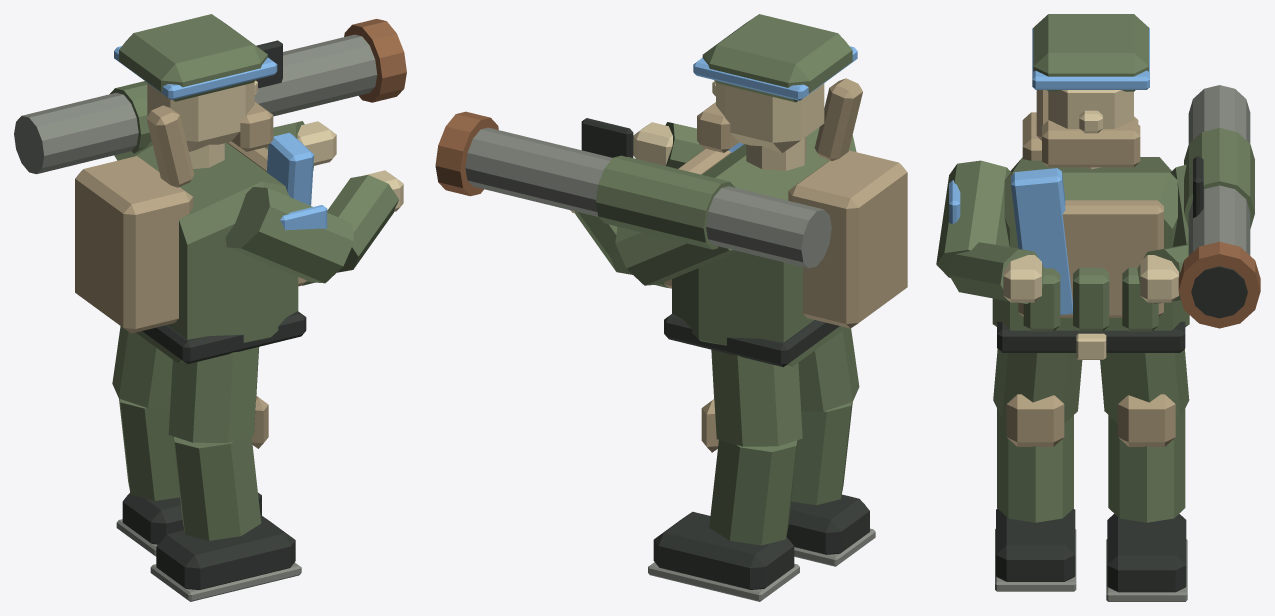
Rendered from rpg_trooper.glb.
The picture shows the model from 3 angles, left to right: view 1: azimuth 30°, elevation 25°; view 2: azimuth 150°, elevation 25°; view 3: azimuth 270°, elevation 25°; orthographic projection. The views are drawn at different scales.
Parts seen in each view (by area): view 1: rpg_trooper; view 2: rpg_trooper; view 3: rpg_trooper.
Boxes of the visible parts, x1=… form: rpg_trooper: x1=14, y1=14, x2=406, y2=601; rpg_trooper: x1=435, y1=14, x2=907, y2=601; rpg_trooper: x1=936, y1=14, x2=1260, y2=601.
Size of the model in its own units: 1 by 1.37 by 0.7623.
